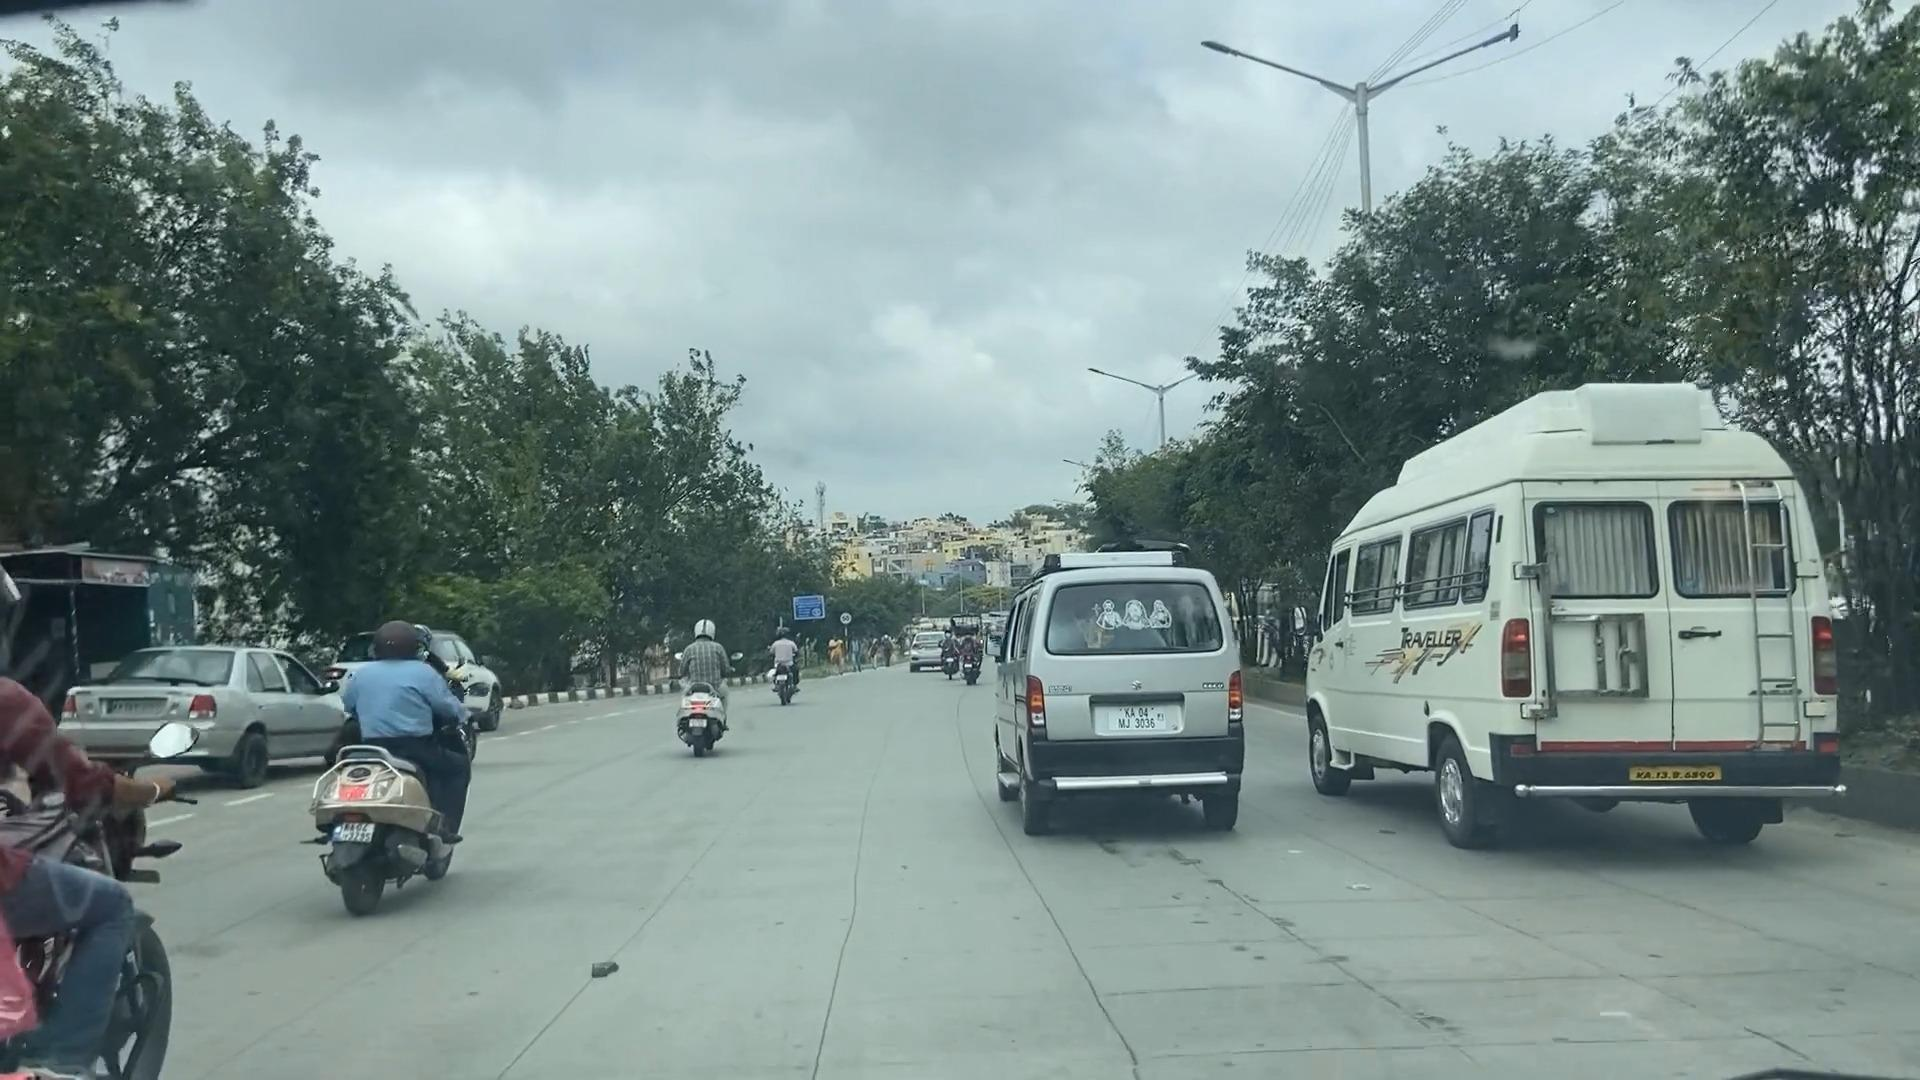HMV: (1320, 394, 1841, 881)
LMV: (996, 578, 1257, 847), (343, 621, 465, 886), (142, 646, 339, 761)
